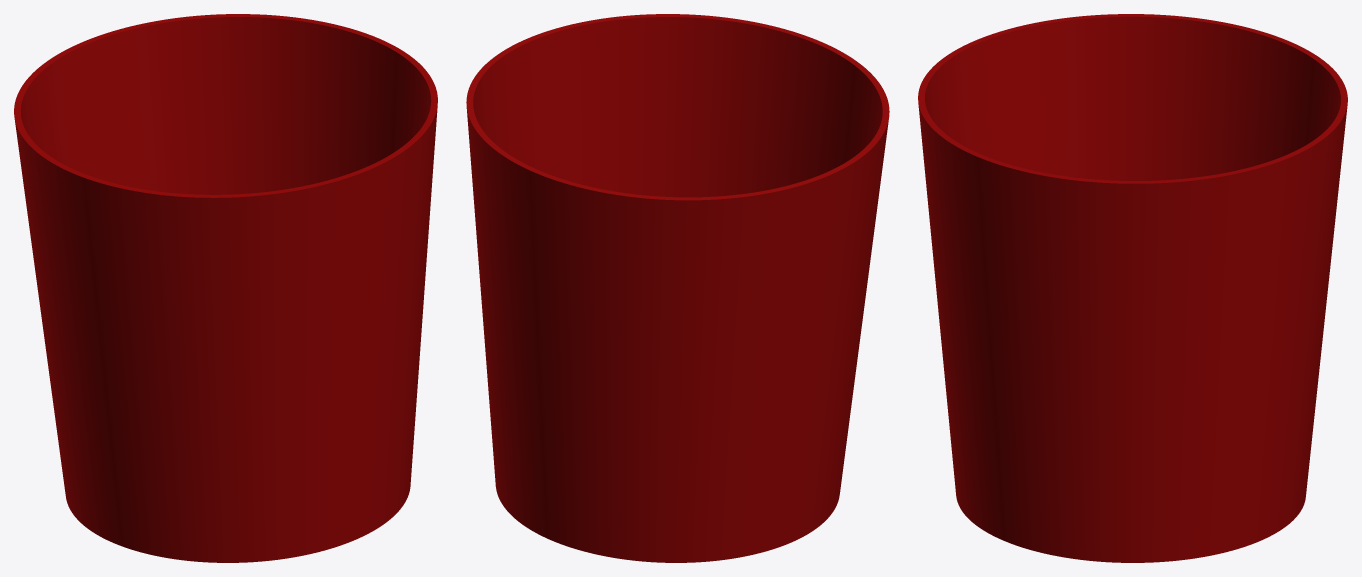
Rendered from trashBin.fbx.
3 renders of one model, left to right at view 1: azimuth 30°, elevation 25°; view 2: azimuth 150°, elevation 25°; view 3: azimuth 270°, elevation 25°, orthographic.
Parts seen in each view (by area): view 1: Cylinder; view 2: Cylinder; view 3: Cylinder.
Part boxes in pixels (x1=…): Cylinder: x1=14, y1=14, x2=437, y2=562; Cylinder: x1=466, y1=14, x2=889, y2=562; Cylinder: x1=918, y1=14, x2=1347, y2=562.
Size of the model in its own units: 200 by 205 by 200.
